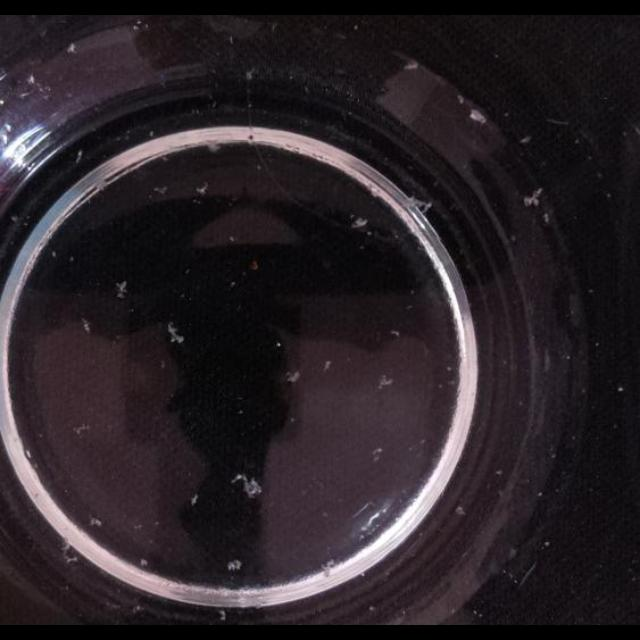Fibre: (232, 473, 262, 499), (410, 198, 432, 216), (524, 188, 542, 208), (167, 324, 185, 344), (61, 544, 79, 564), (469, 110, 487, 124), (114, 280, 128, 298), (377, 374, 393, 388), (206, 142, 222, 154), (81, 318, 92, 334), (351, 218, 367, 228), (196, 182, 208, 194), (90, 516, 102, 528), (244, 67, 256, 79), (404, 60, 418, 70), (67, 42, 77, 54)
microbeads: (226, 558, 242, 572), (285, 370, 299, 382), (154, 184, 168, 196), (454, 504, 466, 516), (372, 447, 382, 461), (508, 546, 518, 560), (322, 360, 332, 370), (218, 610, 228, 620), (28, 74, 36, 86), (542, 212, 550, 224), (390, 330, 400, 338), (140, 557, 148, 567), (520, 136, 530, 144), (24, 449, 32, 459), (457, 95, 465, 104), (494, 468, 502, 476), (368, 605, 376, 613), (10, 215, 18, 223), (160, 359, 167, 368), (228, 235, 236, 242), (51, 250, 57, 258), (148, 130, 154, 138), (230, 282, 237, 288), (566, 354, 572, 361), (446, 366, 452, 372), (618, 386, 624, 392), (538, 491, 544, 497), (545, 542, 551, 548), (238, 409, 244, 415)
